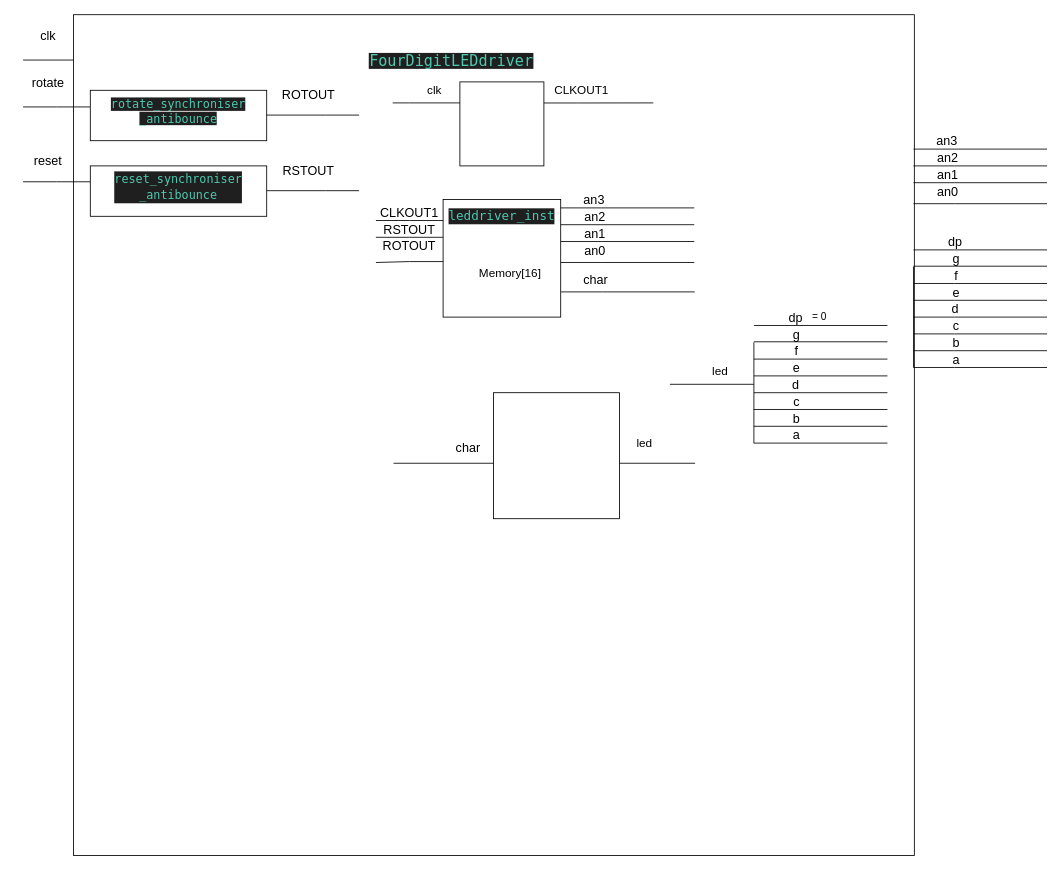
This 1063x870 diagram has some shape labels left out. The shapes that lost their labels are listed below. From the top down, each one's box as (x1, y1, x2, y2) in pixels, then its label:
(459, 81, 544, 166): MMCM_inst
(493, 392, 620, 519): leddecoder_inst
